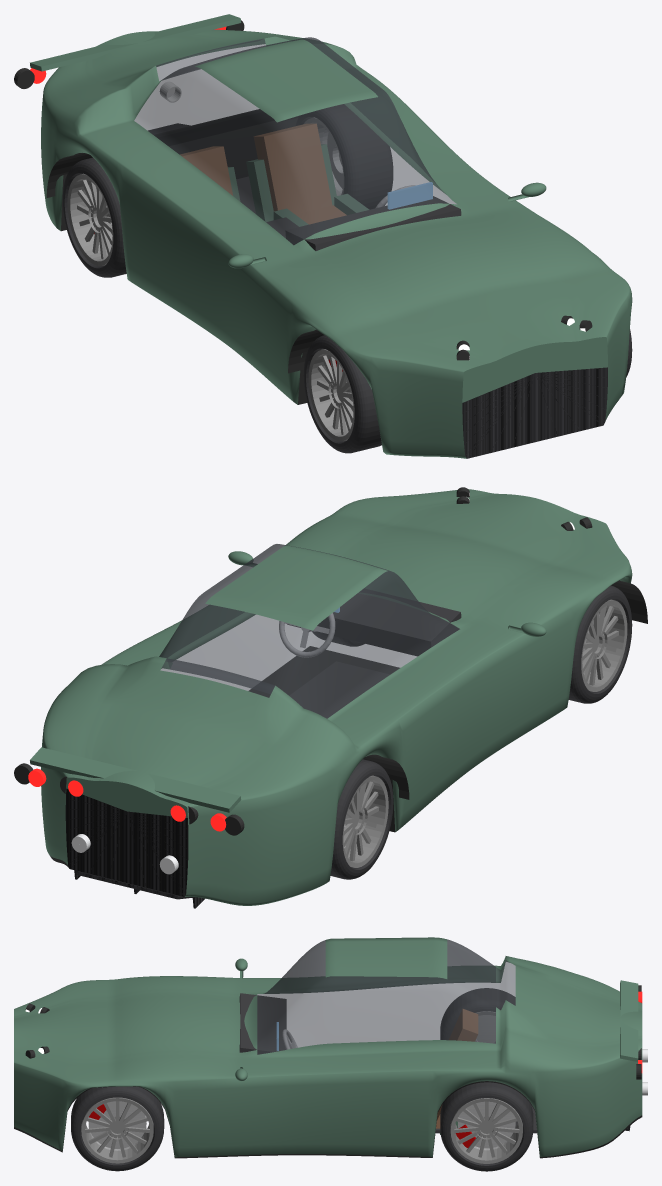
File: bentley-continental-gt-speed.glb
3 views of the same model, one above another, from view 1: azimuth 30°, elevation 25°; view 2: azimuth 150°, elevation 25°; view 3: azimuth 270°, elevation 25° (orthographic). The views are drawn at different scales.
Visible parts, largest first — view 1: Body_PrimaryPaint, Glass_Windows, Carbon_Exterior, Interior_Seats, Tire_RL, Underbody, Tire_FR, Rim_FR, Rim_RR, Tire_RR, Interior_SeatBolsters, Interior_Dashboard (+5 smaller); view 2: Body_PrimaryPaint, Glass_Windows, Carbon_Exterior, Interior_Dashboard, WheelWells, Body_Spoiler, Rim_FR, Rim_RR, Interior_Tub, Tire_RR, Tire_FR, Lights_Housings (+2 smaller); view 3: Body_PrimaryPaint, Glass_Windows, Tire_RL, Rim_FL, Rim_RL, Tire_FL, Interior_Dashboard, Tire_RR, Body_Spoiler, Underbody, BrakeDisc_FL, BrakeDisc_RL (+3 smaller).
Part boxes in pixels (<box>): Body_PrimaryPaint: <box>41,29,632,458</box>; Glass_Windows: <box>134,37,456,244</box>; Carbon_Exterior: <box>148,123,607,458</box>; Interior_Seats: <box>180,123,346,224</box>; Tire_RL: <box>295,104,393,209</box>; Underbody: <box>61,109,619,404</box>; Tire_FR: <box>303,335,381,453</box>; Rim_FR: <box>308,349,354,441</box>; Rim_RR: <box>67,173,113,265</box>; Tire_RR: <box>62,157,126,277</box>; Interior_SeatBolsters: <box>228,144,369,226</box>; Interior_Dashboard: <box>285,196,461,250</box>; Body_PrimaryPaint: <box>41,489,632,905</box>; Glass_Windows: <box>159,544,459,718</box>; Carbon_Exterior: <box>65,788,204,908</box>; Interior_Dashboard: <box>287,589,461,656</box>; WheelWells: <box>249,580,647,799</box>; Body_Spoiler: <box>30,747,241,812</box>; Rim_FR: <box>581,599,627,691</box>; Rim_RR: <box>342,775,388,867</box>; Interior_Tub: <box>289,661,389,712</box>; Tire_RR: <box>330,759,393,879</box>; Tire_FR: <box>568,585,632,703</box>; Lights_Housings: <box>14,487,592,835</box>; Body_PrimaryPaint: <box>14,937,642,1157</box>; Glass_Windows: <box>257,939,515,1054</box>; Tire_RL: <box>440,1082,533,1171</box>; Rim_FL: <box>81,1097,153,1163</box>; Rim_RL: <box>450,1098,522,1163</box>; Tire_FL: <box>71,1086,164,1171</box>; Interior_Dashboard: <box>239,993,286,1054</box>; Tire_RR: <box>440,988,515,1040</box>; Body_Spoiler: <box>620,980,638,1061</box>; Underbody: <box>14,1081,642,1158</box>; BrakeDisc_FL: <box>88,1101,146,1150</box>; BrakeDisc_RL: <box>458,1101,515,1150</box>.
Bounding box in the file's own units: 2.17 × 1.4 × 4.89.
16 materials, 2 textured.
